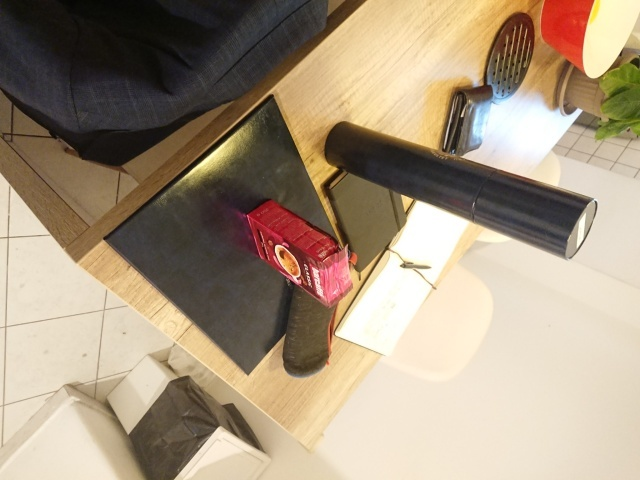Barcaffe Classic Original 225g: (246, 197, 355, 310)
